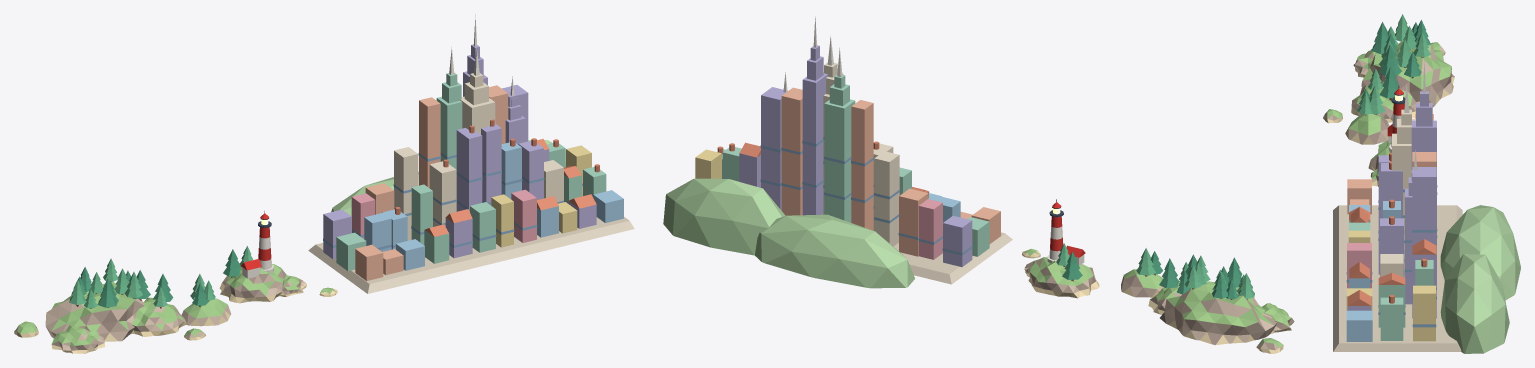
File: skyline.glb
3 renders of one model, left to right at view 1: azimuth 30°, elevation 25°; view 2: azimuth 150°, elevation 25°; view 3: azimuth 270°, elevation 25°, orthographic. The views are drawn at different scales.
Visible parts, largest first — view 1: skyline; view 2: skyline; view 3: skyline.
Boxes of the visible parts, <box> form: skyline: <box>14,14,634,353</box>; skyline: <box>663,16,1294,353</box>; skyline: <box>1323,14,1520,353</box>.
Size of the model in its own units: 123 by 43.43 by 33.6.
